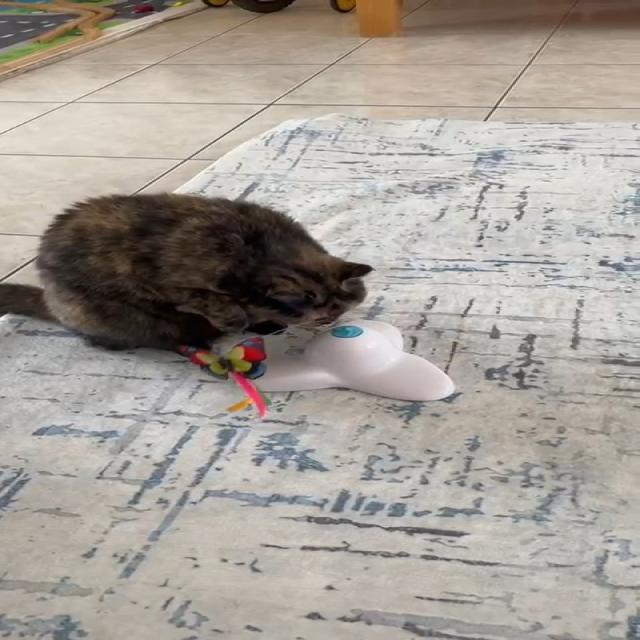authorized: (0, 191, 373, 352)
